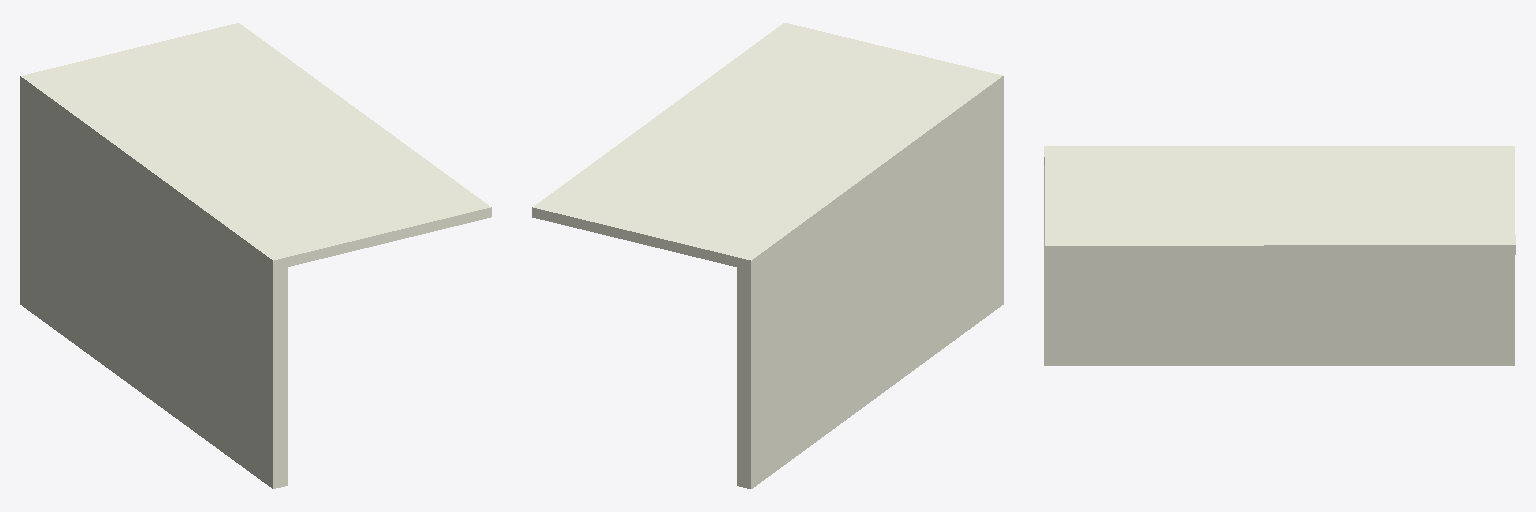
The robot description file, URDF, robot "table.urdf":
<?xml version="0.0" ?>
<robot name="table.urdf">
  <material name="Black">
    <color rgba="0.0 0.0 0.0 1.0"/>
  </material>
  <material name="Blue">
    <color rgba="0.0 0.0 0.8 1.0"/>
  </material>
  <material name="Green">
    <color rgba="0.0 0.8 0.0 1.0"/>
  </material>
  <material name="Grey">
    <color rgba="0.5 0.5 0.5 1.0"/>
  </material>
  <material name="Light_Grey">
    <color rgba="0.8 0.8 0.8 1.0"/>
  </material>
  <material name="Ivory">
    <color rgba="1.0 1.0 0.94 1.0"/>
  </material>
  <material name="Orange">
    <color rgba="1.0 0.423529411765 0.0392156862745 1.0"/>
  </material>
  <material name="Brown">
    <color rgba="0.870588235294 0.811764705882 0.764705882353 1.0"/>
  </material>
  <material name="Red">
    <color rgba="0.8 0.0 0.0 1.0"/>
  </material>
  <material name="White">
    <color rgba="1.0 1.0 1.0 1.0"/>
  </material>
  <link name="baseLink">
    <contact>
      <lateral_friction value="1.0"/>
    </contact>
    <inertial>
      <origin rpy="0 0 0" xyz="0 0 0"/>
       <mass value=".0"/>
       <inertia ixx="1" ixy="0" ixz="0" iyy="1" iyz="0" izz="1"/>
    </inertial>
    <visual>
      <origin rpy="0 0 0" xyz="0 0 0.6"/>
      <geometry>
				<mesh filename="table.obj" scale="1.5 1 0.05"/>
      </geometry>
       <material name="white">
        <color rgba="1 1 1 1"/>
      </material>
    </visual>
    <collision>
      <origin rpy="0 0 0" xyz="0 0 0.6"/>
      <geometry>
	 	<box size="1.5 1 0.05"/>
      </geometry>
    </collision>
	<visual>
      <origin rpy="0 0 0" xyz="-0.65 -0.4 0.29"/>
      <geometry>
	    <mesh filename="table.obj" scale="0.1 0.1 0.58"/>
      </geometry>
	  <material name="framemat0"/>	 
    </visual>
    <visual>
      <origin rpy="0 0 0" xyz="-0.65 0.4 0.29"/>
      <geometry>
        <mesh filename="table.obj" scale="0.1 0.1 0.58"/>
      </geometry>
	  <material name="framemat0"/>
	  </visual>
    <visual>
      <origin rpy="0 0 0" xyz="0.65 -0.4 0.29"/>
      <geometry>
        <mesh filename="table.obj" scale="0.1 0.1 0.58"/>
      </geometry>
	  <material name="framemat0"/>
	  </visual>
    <visual>
      <origin rpy="0 0 0" xyz="0.65 0.4 0.29"/>
      <geometry>
        <mesh filename="table.obj" scale="0.1 0.1 0.58"/>
      </geometry>
    </visual>
  </link>
  <joint name="table2shelf" type="fixed">
    <parent link="baseLink"/>
    <child link="shelf"/>
    <origin rpy="0 0 -1.57" xyz="-0.5 0.125 0.625"/>
  </joint>
  <link name="shelf">
    <visual>
      <origin rpy="0 0 0" xyz="0 0 0"/>
      <geometry>
        <mesh filename="shelf_back.stl" scale="0.75 0.75 0.5"/>
      </geometry>
      <material name="Ivory"/>
    </visual>
    <collision>
      <origin rpy="0 0 0" xyz="0 0 0"/>
      <geometry>
        <mesh filename="shelf_back.stl" scale="1.0 0.75 0.5"/>
	<!-- <mesh filename="shelf_back.stl" scale="0.75 0.75 0.5"/> -->
      </geometry>
    </collision>
    <contact>
      <lateral_friction value="0.2"/>
    </contact>
  </link>
</robot>

--- Render facts (derived) ---
3 views of the same robot in one strip: view 1: azimuth 30°, elevation 25°; view 2: azimuth 150°, elevation 25°; view 3: azimuth 270°, elevation 25° (orthographic).
Model table.urdf with 2 links and 1 joints (1 fixed), rooted at baseLink, posed all joints at 0.
Visible links, largest first — view 1: shelf; view 2: shelf; view 3: shelf.
Link boxes in pixels (x1,y1,x2,y2): shelf: (20,23,491,488); shelf: (532,23,1003,488); shelf: (1044,146,1515,365).
Bounding box of the posed robot: 0.1127 × 0.2251 × 0.1125 m (x, y, z).
Meshes: 2 distinct files referenced, 1 mesh visuals loaded (1 binary STL); not drawn: 5 (reference not matched to a file when rendering).